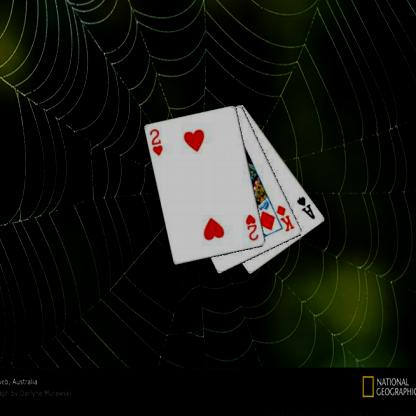2H: (147, 126, 164, 157), (243, 212, 260, 242)
AS: (294, 194, 317, 221)
KD: (274, 202, 296, 233)
